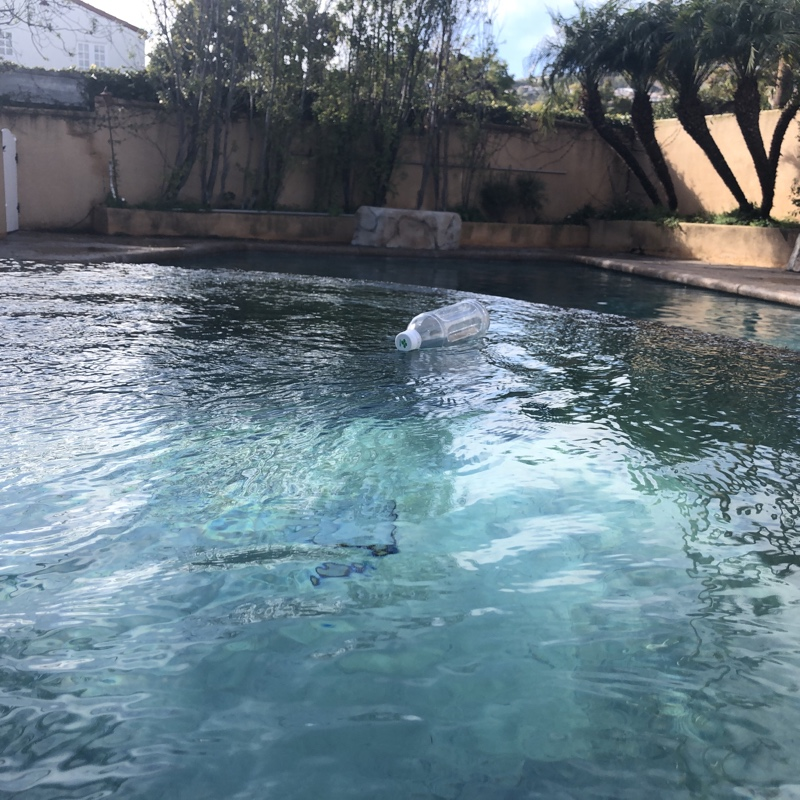Plastic Bottle: (392, 297, 494, 356)
